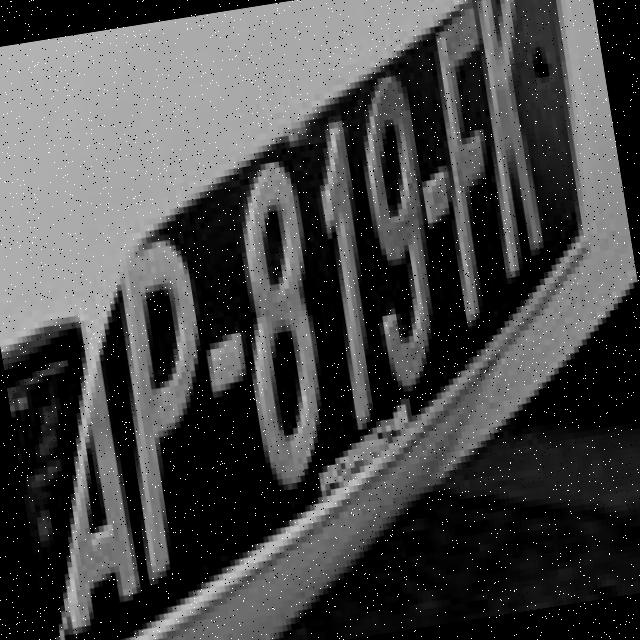Autre: (3, 0, 580, 640)
